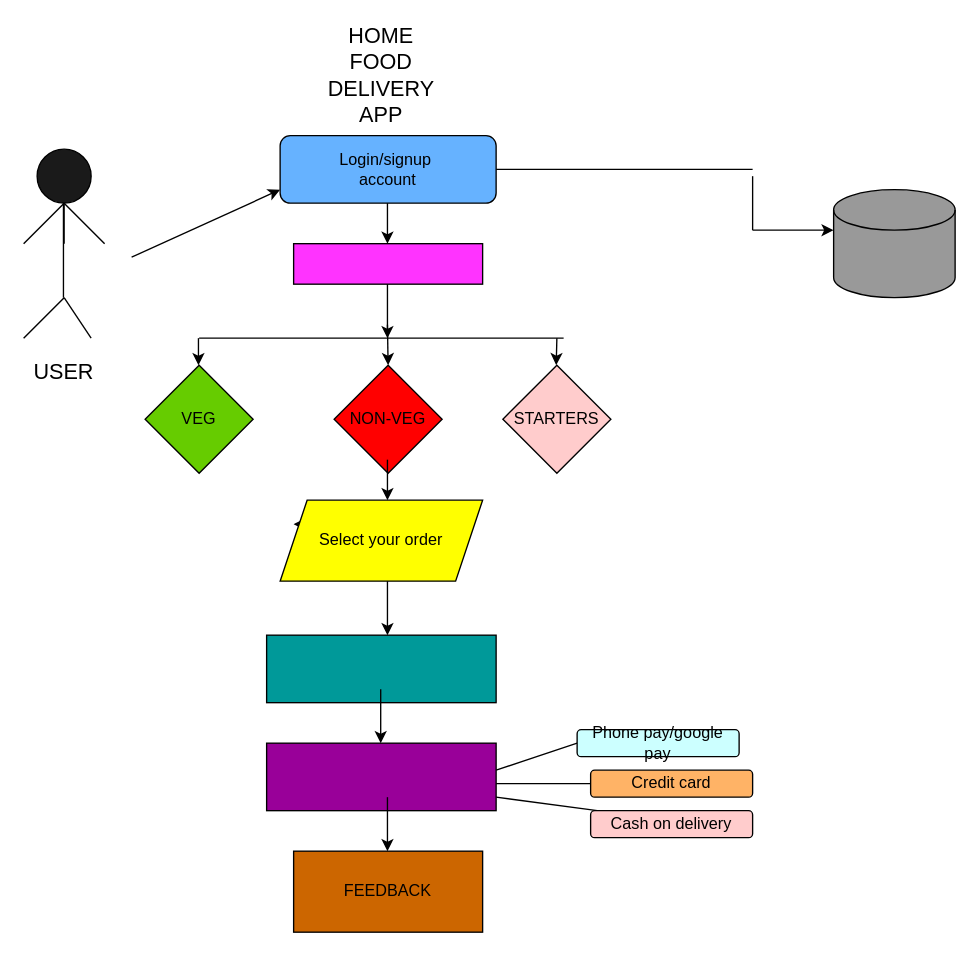
Image size: 979x956. Some labels were removed from this diagram. Each missing label, with the centre of its shape:
"Available food types" belongs at pixel 387 263.
"Bill payment options" belongs at pixel 380 776.
"Conform your order" belongs at pixel 380 668.
"it is storing your detials" belongs at pixel 893 243.
